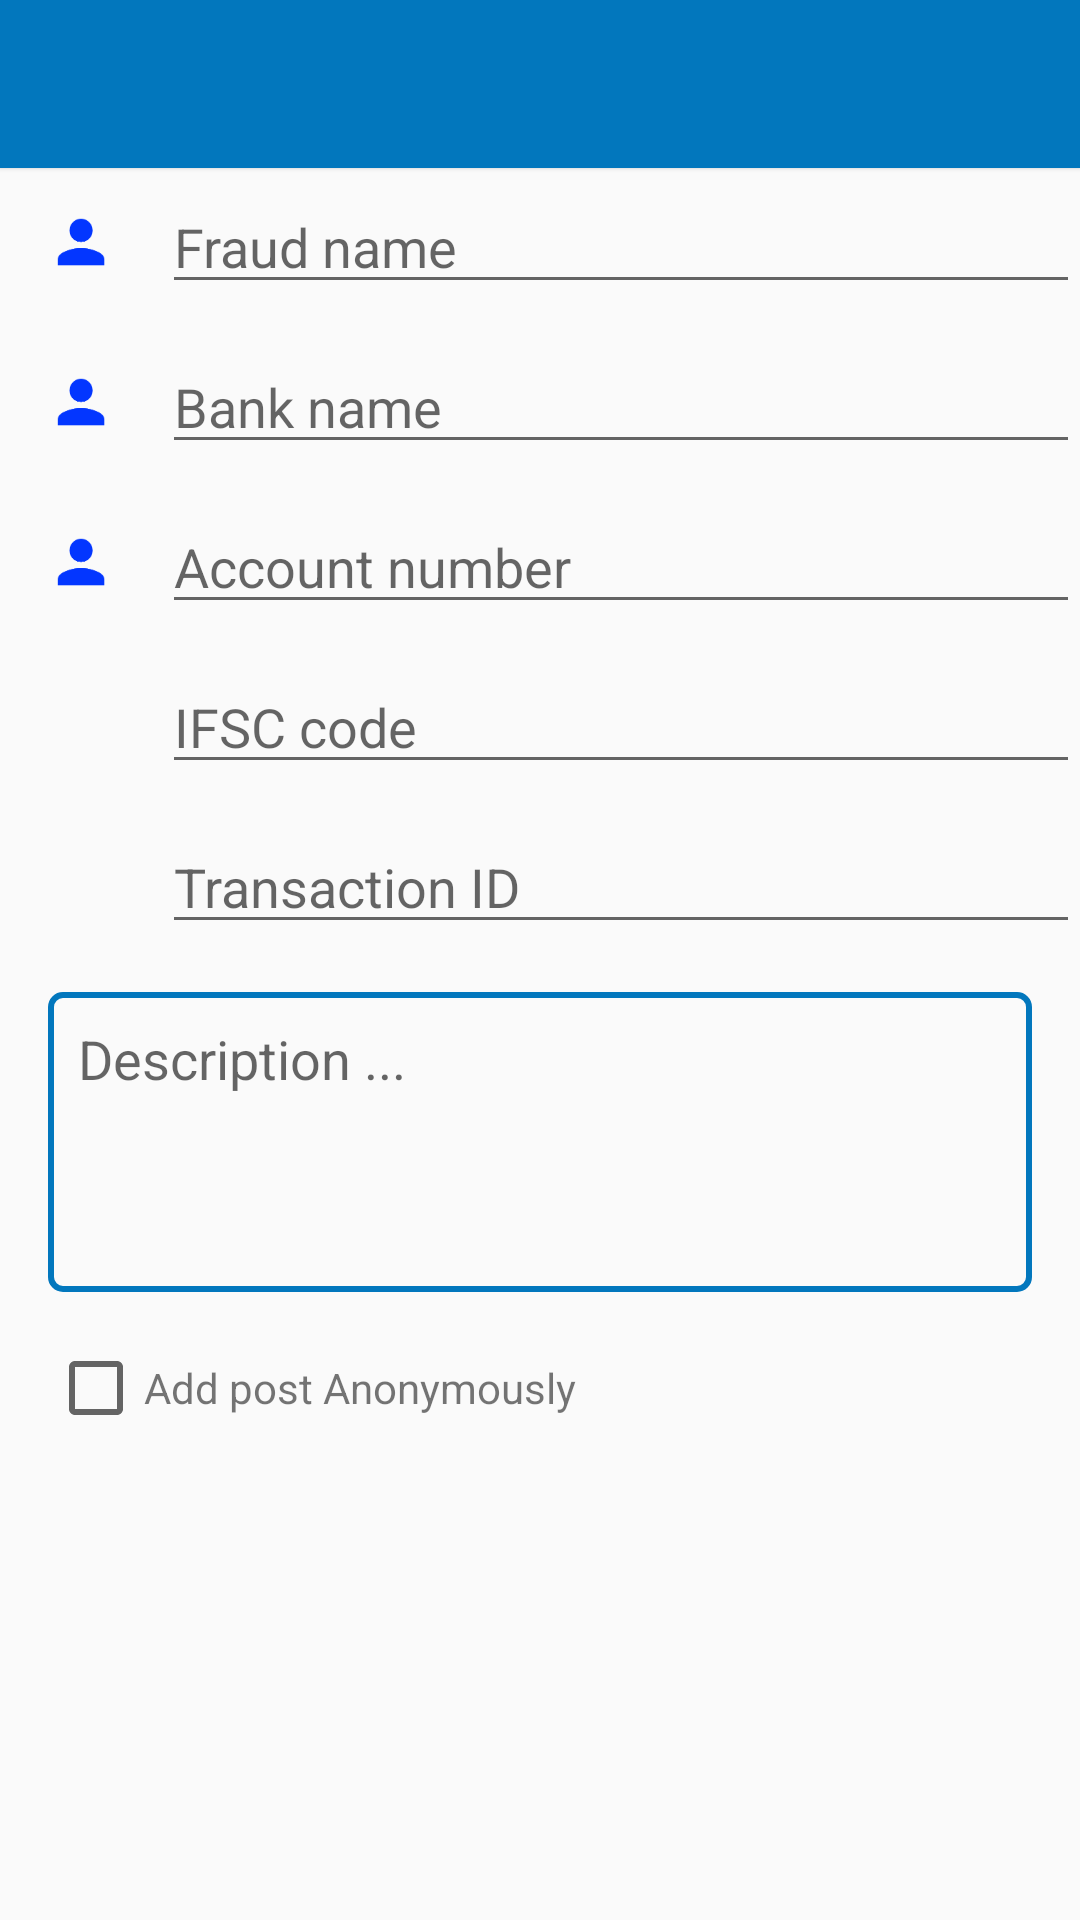

Screen size 1080 x 1920. Icon name, then its box in pixels as (x1, y1, x2, y2):
person: (57, 218, 105, 266), (57, 378, 105, 426), (57, 538, 105, 586)
